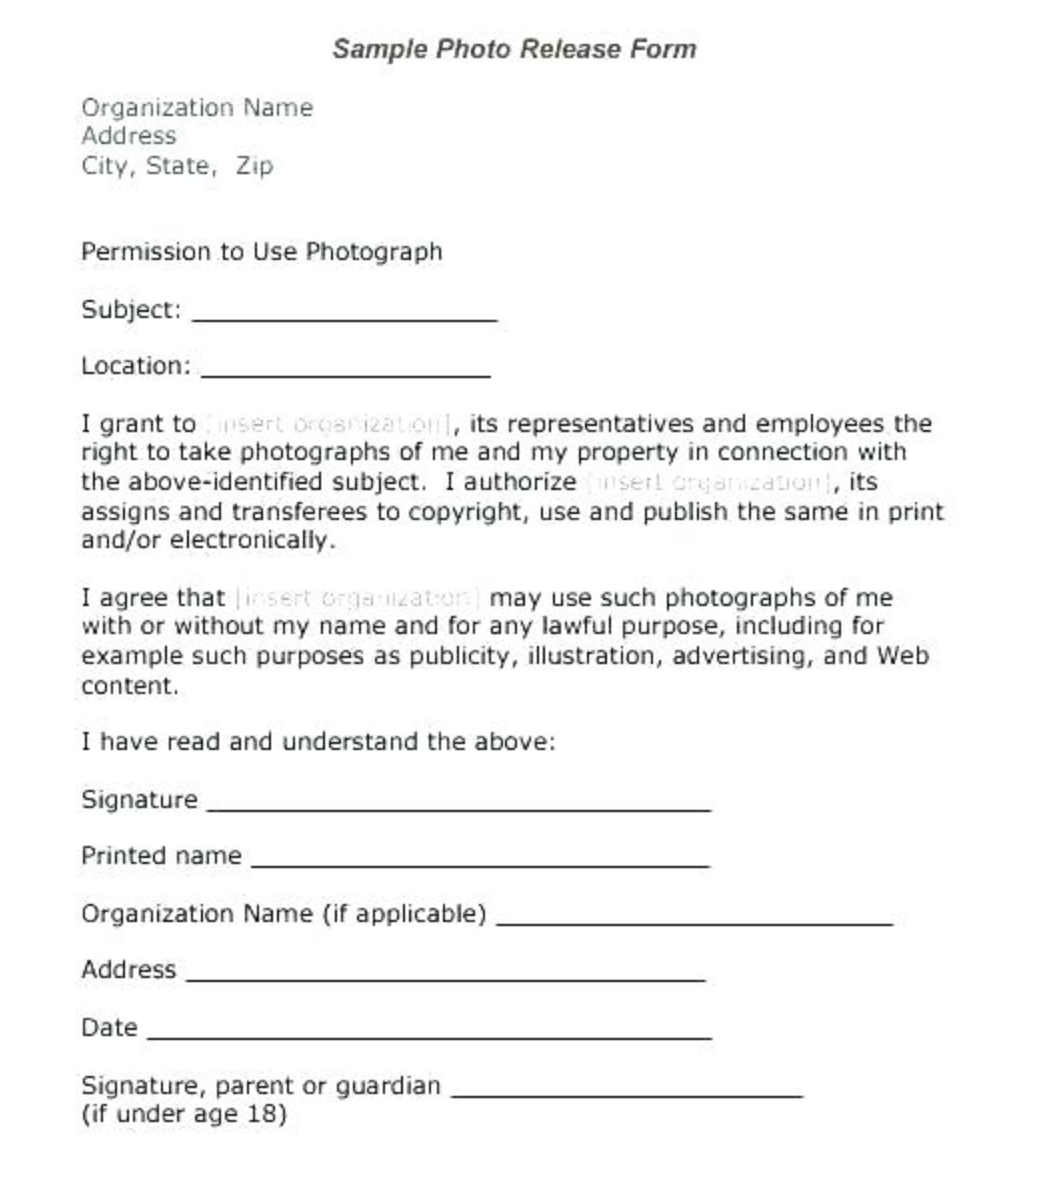textline: (180, 932, 711, 990), (142, 997, 725, 1047), (201, 767, 719, 818), (244, 823, 719, 874), (490, 881, 901, 935), (445, 1060, 809, 1104), (185, 284, 504, 332), (193, 347, 498, 386)
